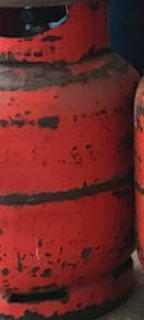cylinder: (1, 1, 144, 320)
